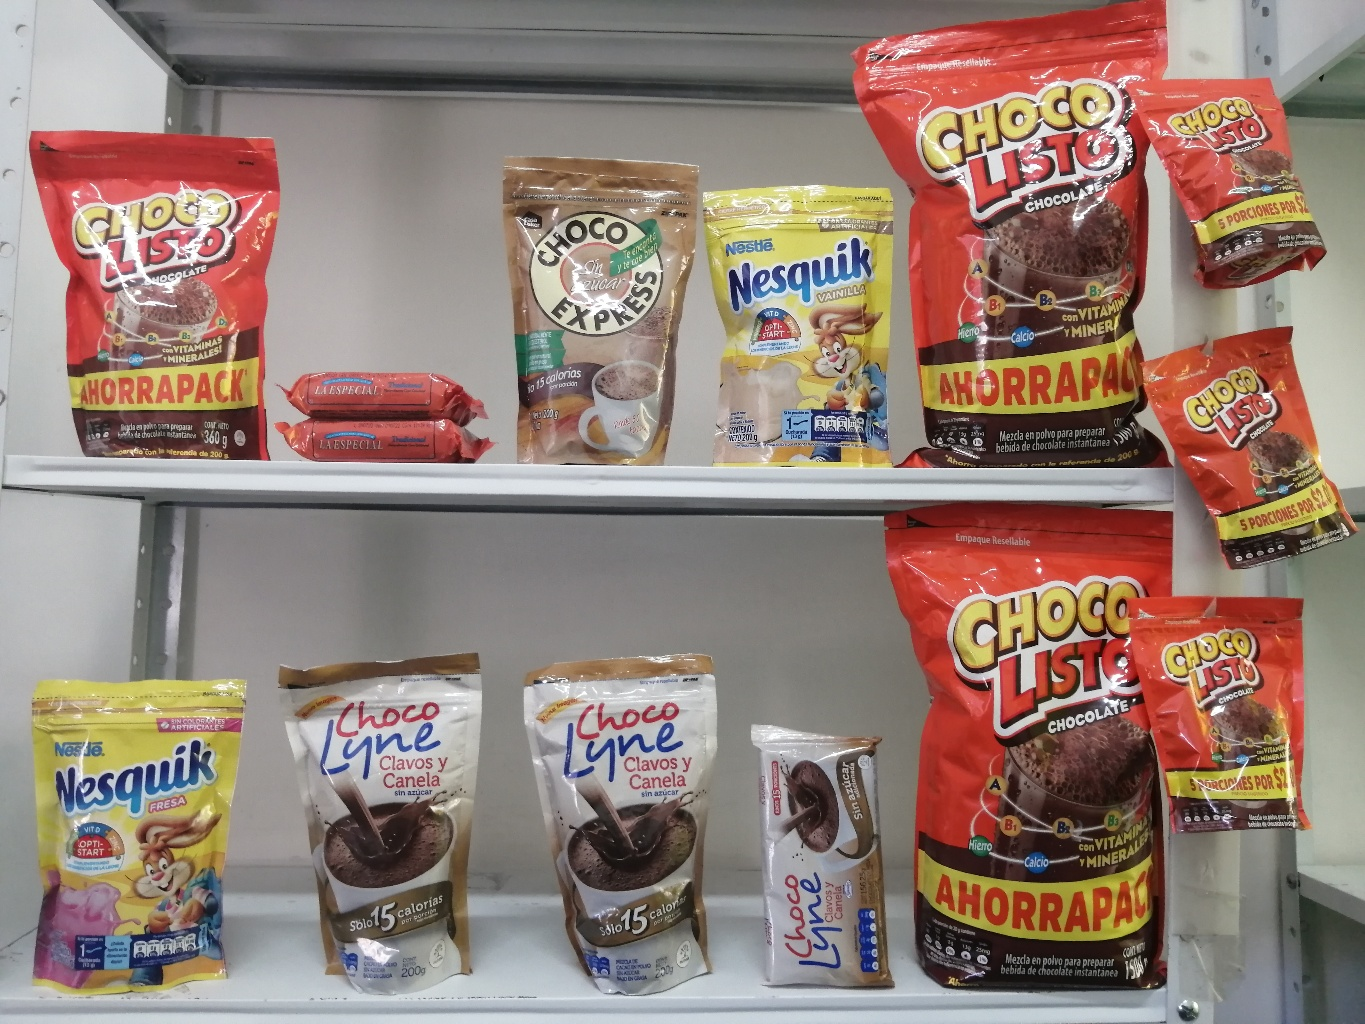COL0170103DYP1,500: (865, 492, 1210, 1006)
COL0170103DYP36000: (12, 103, 294, 472)
COL0170305DYP20000: (8, 650, 254, 1005)
COL0170306DYP20000: (705, 166, 910, 470)
